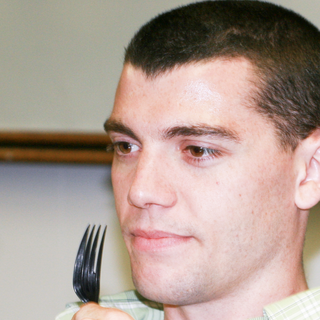eye: (175, 139, 229, 168), (104, 135, 146, 160)
